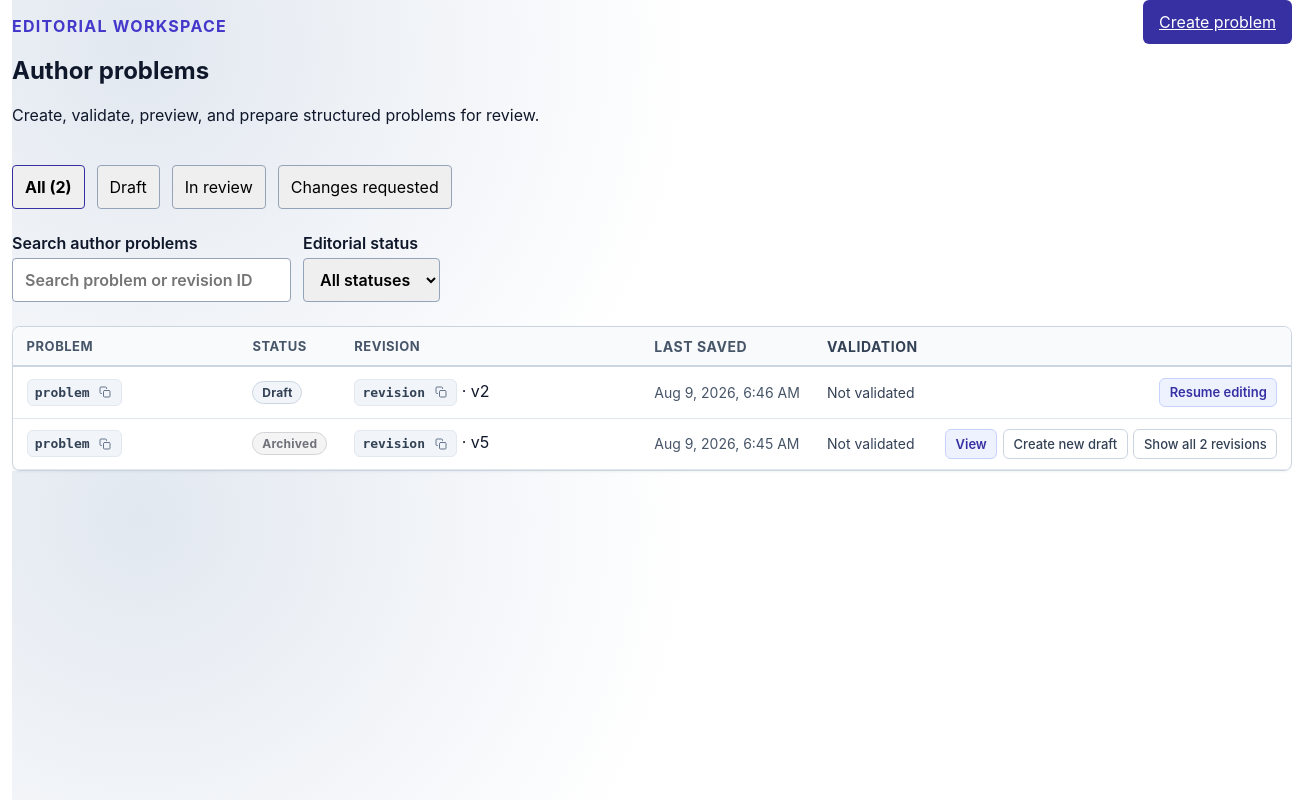
Test: IOAI Studio author problem list › collapses each problem to its latest revision and expands its history
This screenshot has width=1292, height=800.
Expected: the text "revision-older" is not shown
Click the button "Show all 2 revisions" at x=1205, y=444, box [1133,429,1277,459]
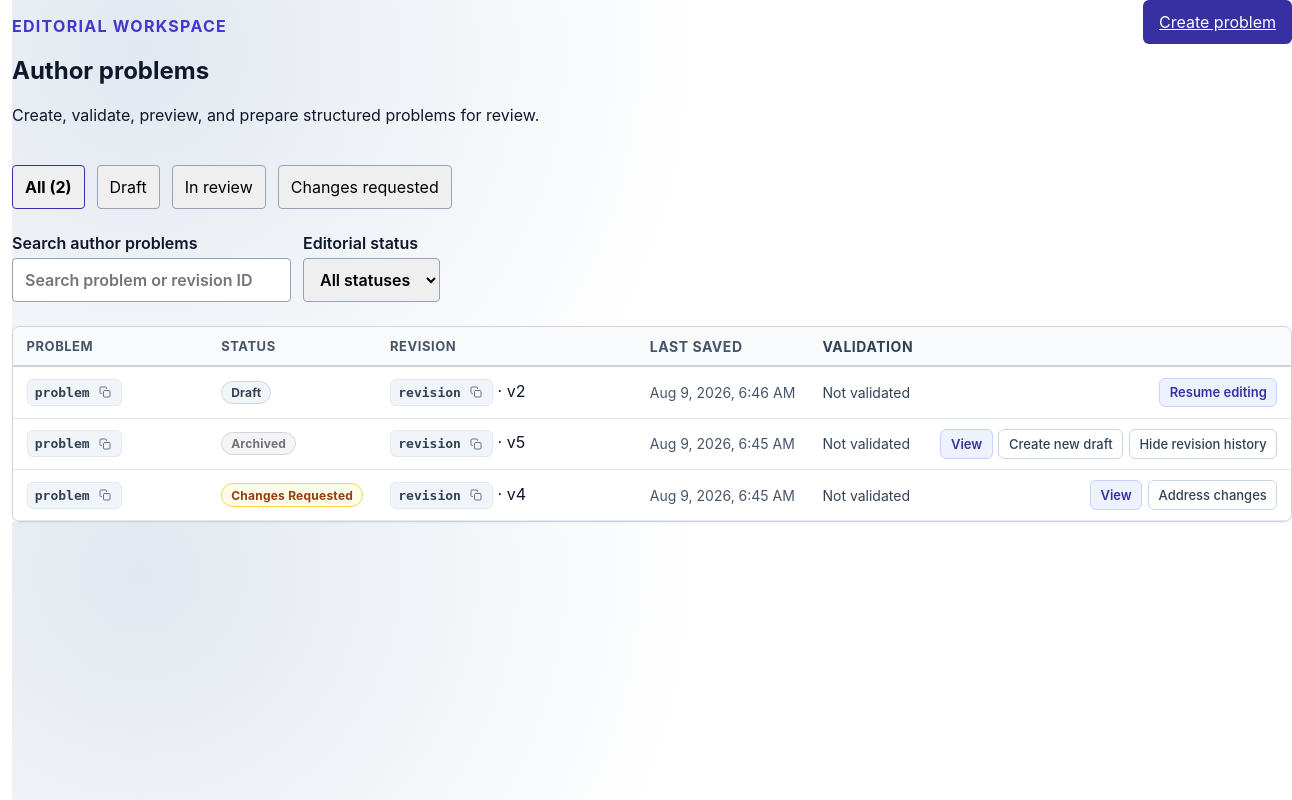
Result: the button "Hide revision history" is expanded
Click the button "Hide revision history" at x=1203, y=444, box [1129,429,1277,459]
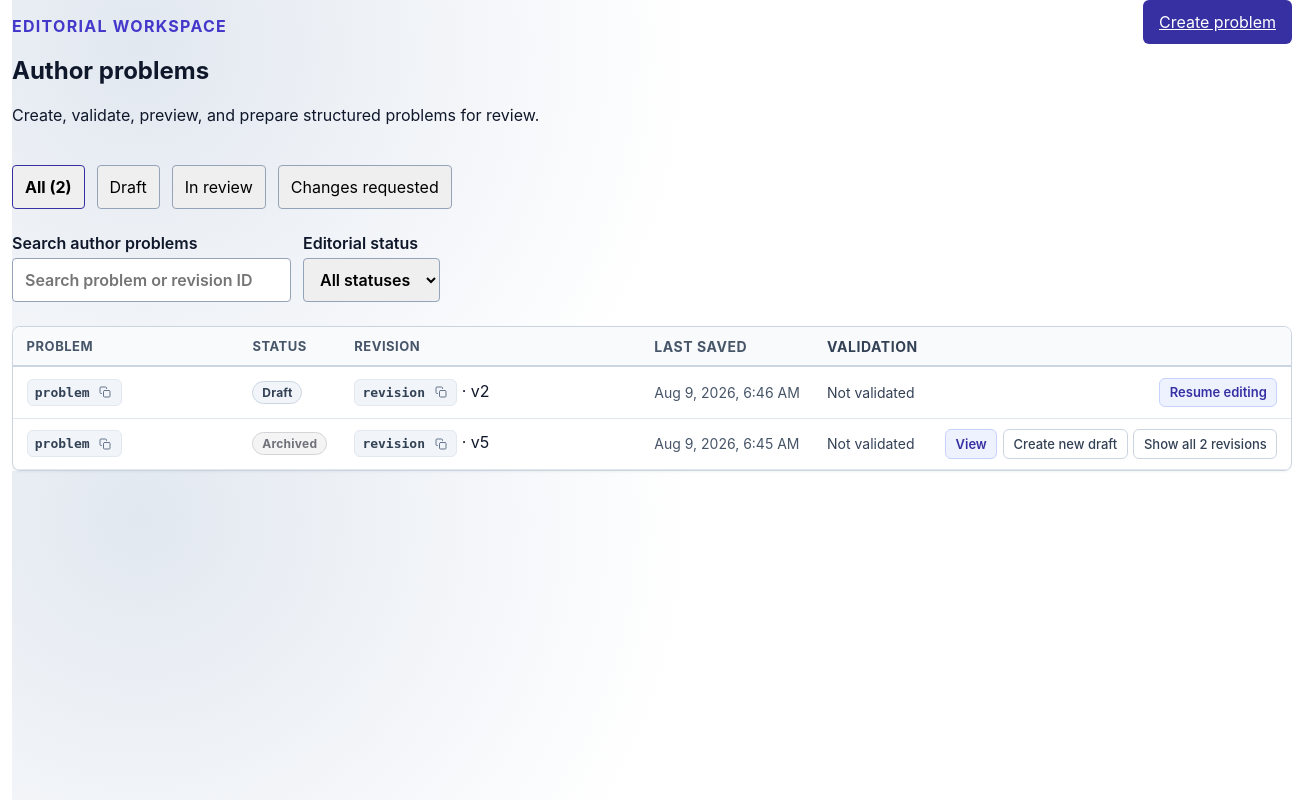
Result: the text "revision-older" is gone
